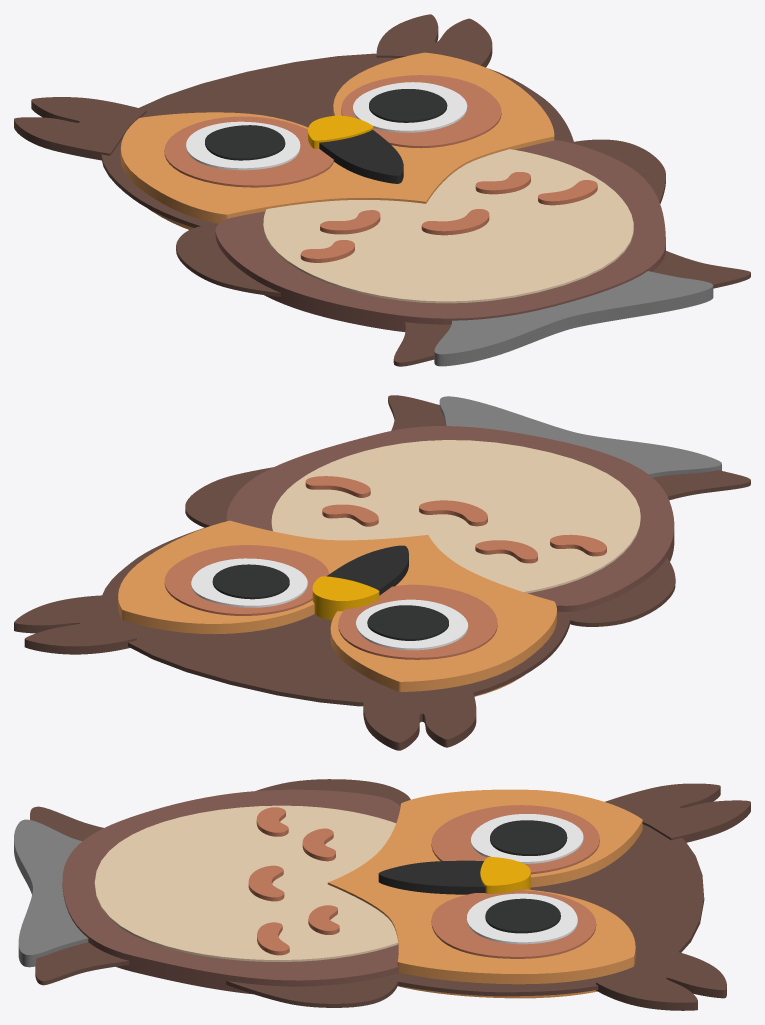
File: emoji_u1f989.glb
3 views of the same model, one above another, from view 1: azimuth 30°, elevation 25°; view 2: azimuth 150°, elevation 25°; view 3: azimuth 270°, elevation 25° (orthographic).
Visible parts, largest first — view 1: emoji_u1f989; view 2: emoji_u1f989; view 3: emoji_u1f989.
Part boxes in pixels (left/top/right/bottom): emoji_u1f989: left=14, top=14, right=750, bottom=366; emoji_u1f989: left=14, top=395, right=750, bottom=750; emoji_u1f989: left=14, top=779, right=750, bottom=1010.
Bounding box in the file's own units: 0.0239 × 0.0022 × 0.0331.
